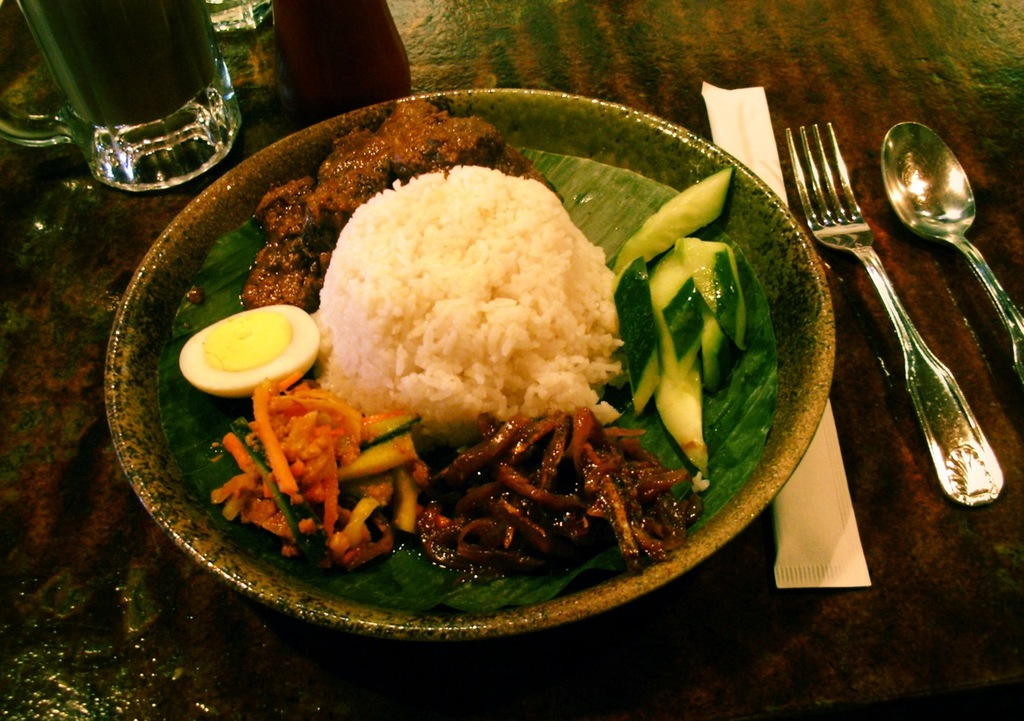fork: (785, 122, 1003, 507)
